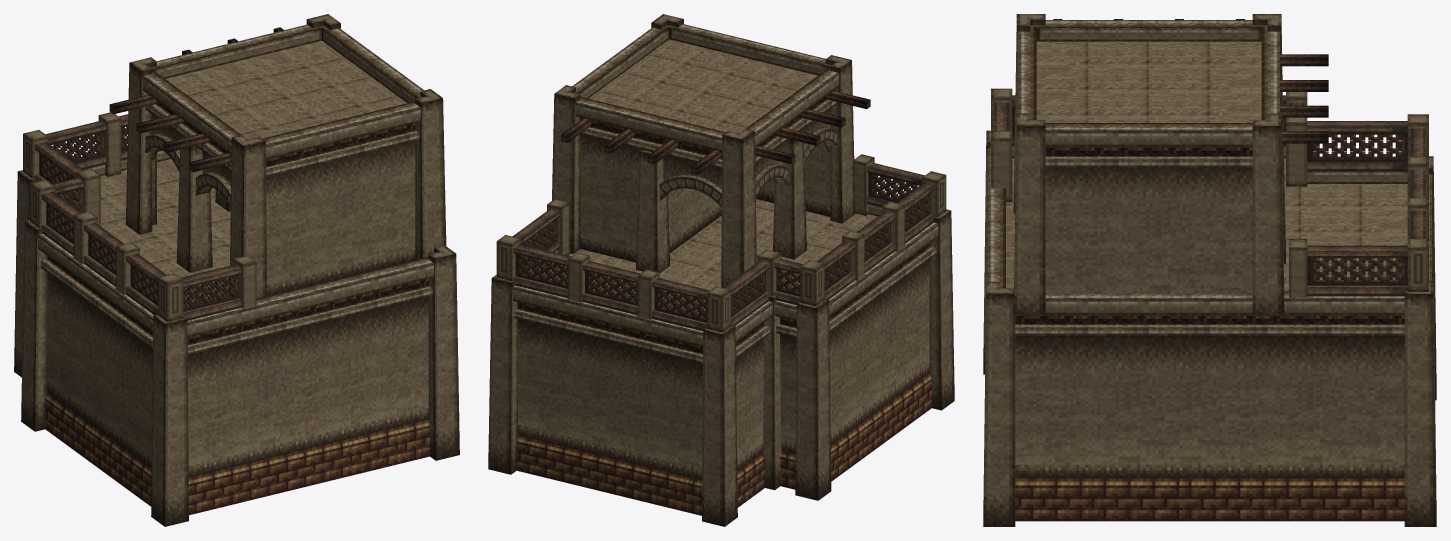
Rendered from EnvBdgMD_Wilderness_C_Outdoor_Pub_A.FBX.
The picture shows the model from 3 angles, left to right: view 1: azimuth 30°, elevation 25°; view 2: azimuth 150°, elevation 25°; view 3: azimuth 270°, elevation 25°; orthographic projection. The views are drawn at different scales.
Visible parts, largest first — view 1: EnvBdgMD_Wilderness_C_Outdoor_Pub_A; view 2: EnvBdgMD_Wilderness_C_Outdoor_Pub_A; view 3: EnvBdgMD_Wilderness_C_Outdoor_Pub_A.
Boxes of the visible parts, x1,y1,x2,y2 form: EnvBdgMD_Wilderness_C_Outdoor_Pub_A: (14,14,459,526); EnvBdgMD_Wilderness_C_Outdoor_Pub_A: (488,14,954,526); EnvBdgMD_Wilderness_C_Outdoor_Pub_A: (983,14,1436,526).
Size of the model in its own units: 645 by 725 by 745.
1 material, 1 textured.
